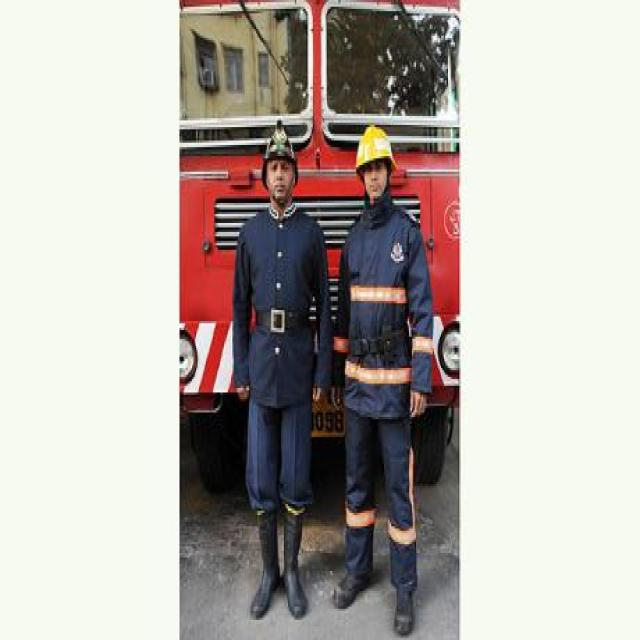emergency: (180, 0, 460, 491)
